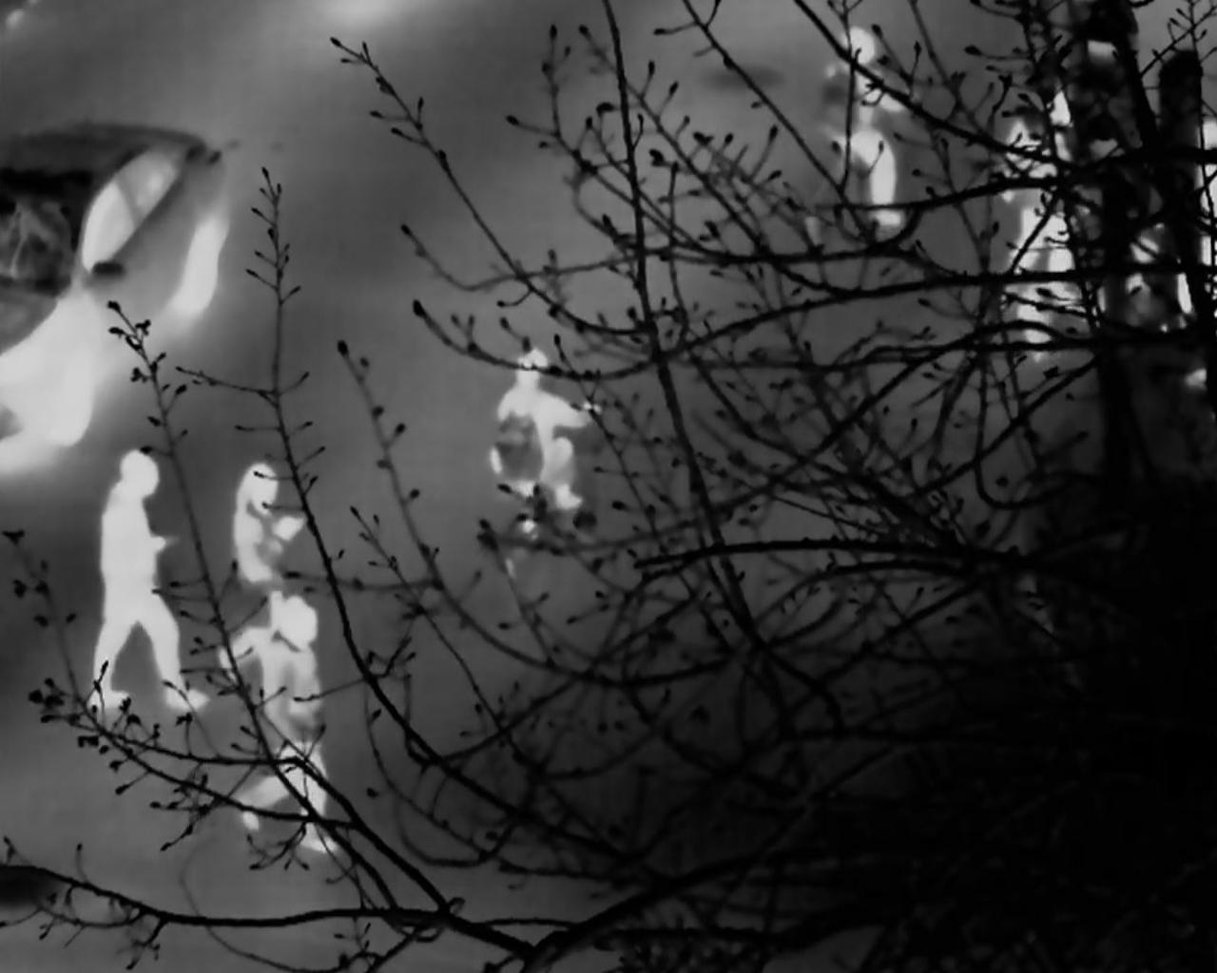person: (98, 440, 204, 729), (230, 599, 357, 840), (999, 90, 1080, 356), (491, 344, 607, 526), (832, 33, 920, 248), (231, 459, 313, 609)
